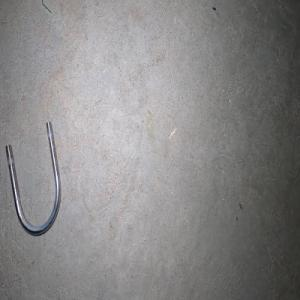ClampPart: (5, 120, 61, 236)
